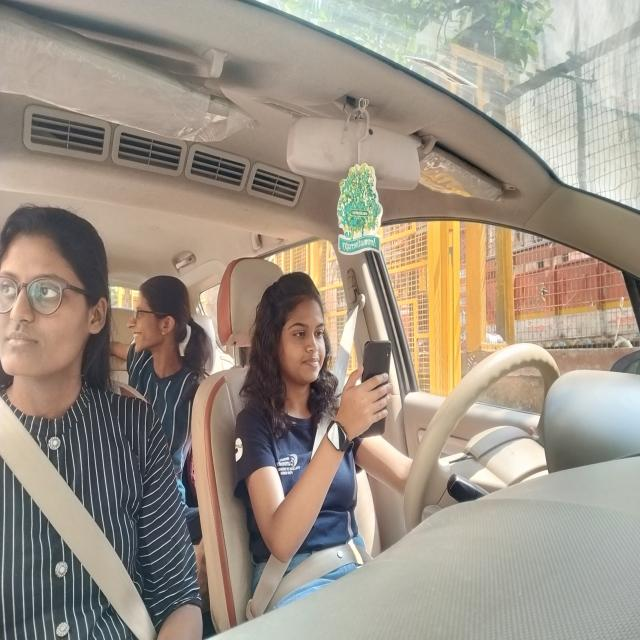mobile: (356, 338, 396, 434)
person: (0, 202, 110, 408), (254, 270, 329, 402), (127, 272, 189, 359)
